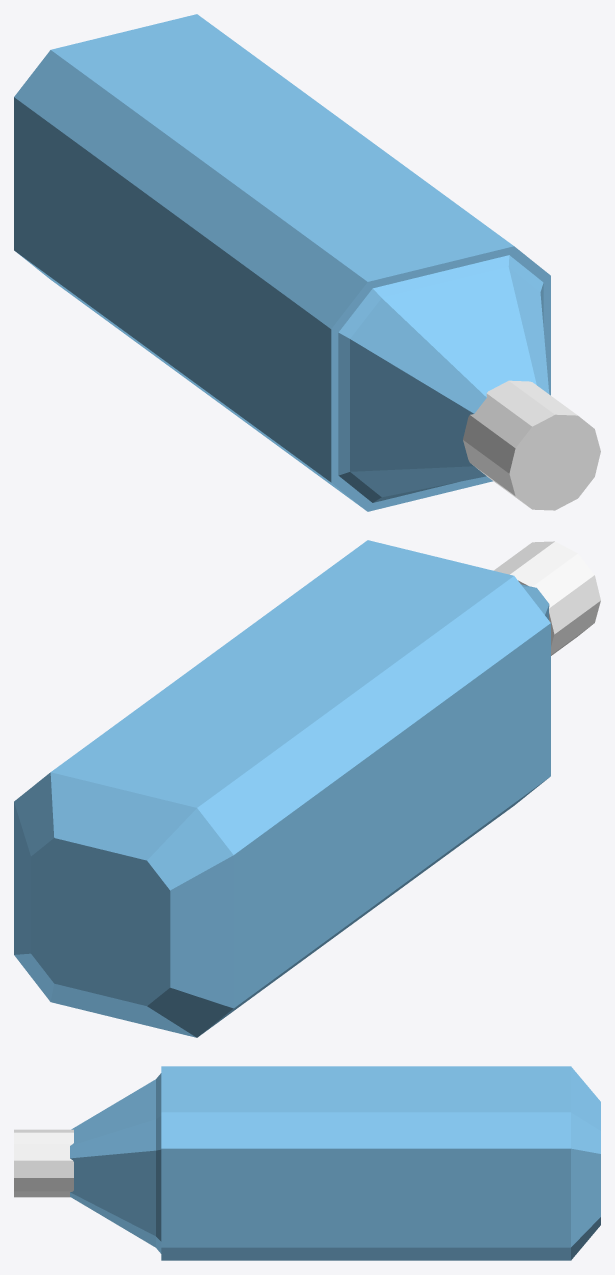
Rendered from nil_link_mesh.dae.
3 views of the same model, one above another, from view 1: azimuth 30°, elevation 25°; view 2: azimuth 150°, elevation 25°; view 3: azimuth 270°, elevation 25° (orthographic). The views are drawn at different scales.
Parts seen in each view (by area): view 1: nil_link (×5); view 2: nil_link (×4); view 3: nil_link (×6).
Part boxes in pixels (bbox=[...]): nil_link (×5): bbox=[14, 14, 600, 511]; nil_link (×4): bbox=[14, 540, 600, 1037]; nil_link (×6): bbox=[14, 1066, 600, 1260].
Bounding box in the file's own units: 0.06 × 0.06 × 0.215.
